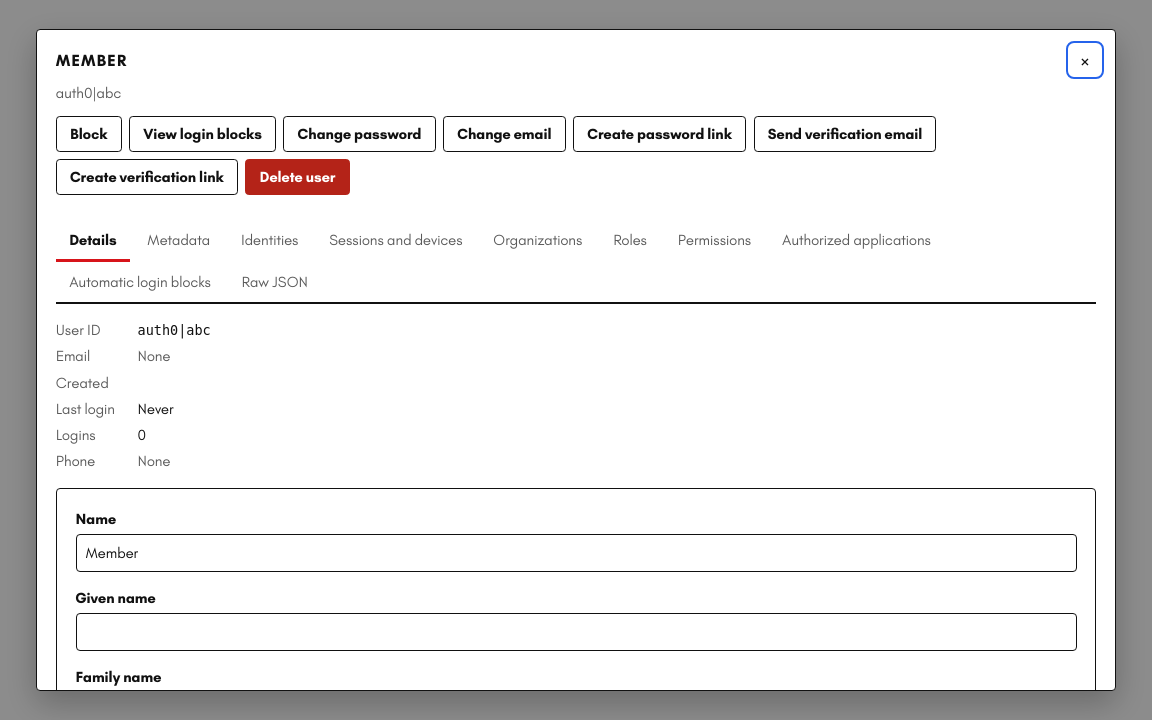
Scenario: opens the user Organizations tab and links memberships to organization detail
Press the mouse on the tab "Organizations" at (538, 242), box [480,221,596,262]
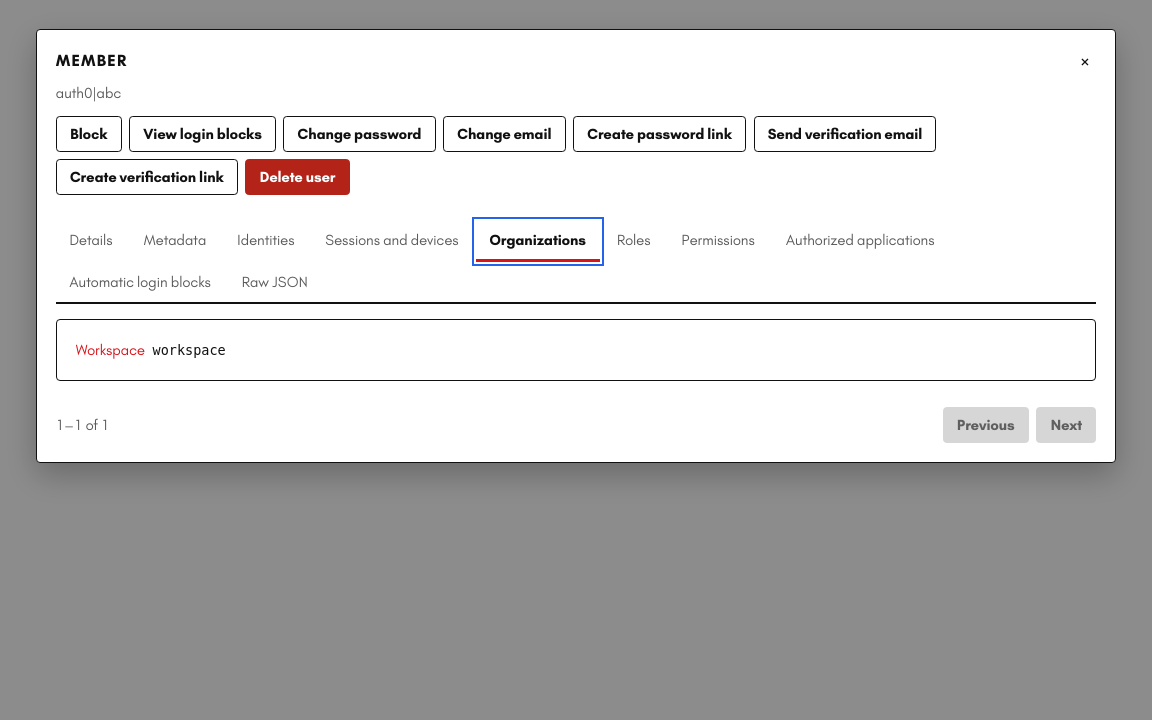
Expected: the link to "/admin/t/acme/organizations/org_1234567890123456" reads "Workspace", [76,339,145,361]
